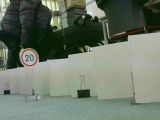speed_20: (18, 46, 39, 68)
